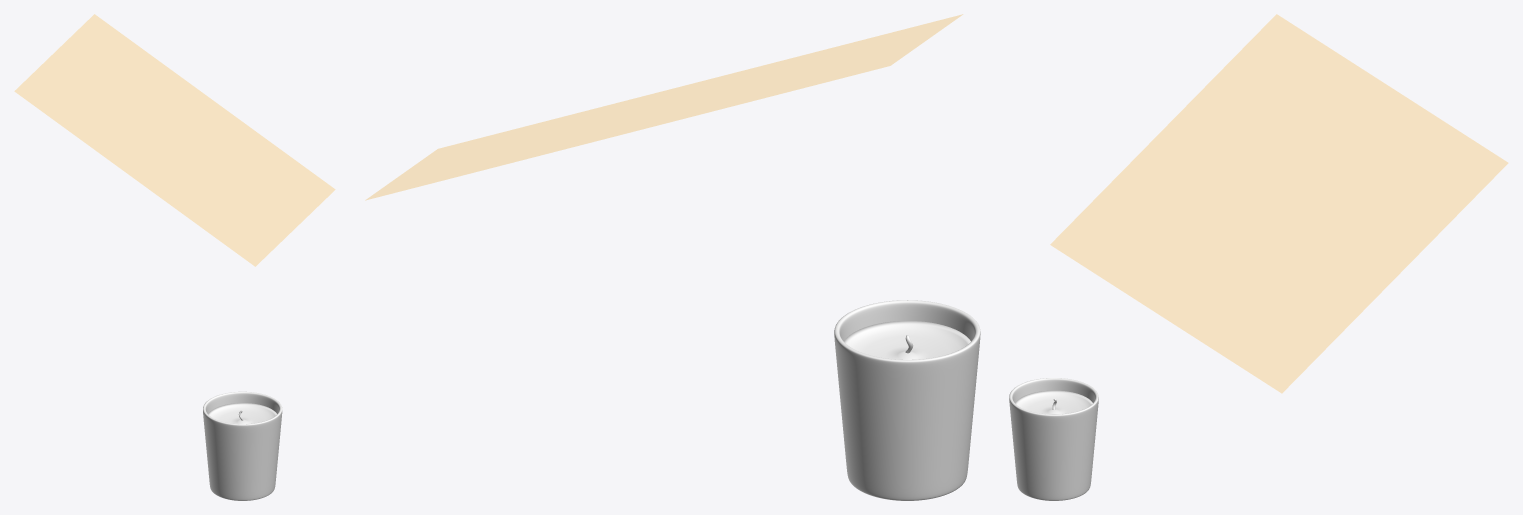
Rendered from candleGlass.glb.
3 renders of one model, left to right at view 1: azimuth 30°, elevation 25°; view 2: azimuth 150°, elevation 25°; view 3: azimuth 270°, elevation 25°, orthographic. The views are drawn at different scales.
Parts seen in each view (by area): view 1: Plane.001, Circle, Circle.001; view 2: Circle, Plane.001, Circle.001; view 3: Plane.001, Circle, Circle.001.
Part boxes in pixels (bbox=[...]): Plane.001: bbox=[14, 14, 335, 266]; Circle: bbox=[203, 391, 282, 500]; Circle.001: bbox=[208, 403, 276, 424]; Circle: bbox=[834, 300, 980, 500]; Plane.001: bbox=[365, 14, 963, 200]; Circle.001: bbox=[844, 321, 970, 359]; Plane.001: bbox=[1050, 14, 1508, 393]; Circle: bbox=[1009, 378, 1098, 500]; Circle.001: bbox=[1015, 390, 1092, 414].
Size of what is drawn, in the model's own units: 11.42 by 11.98 by 13.53.
